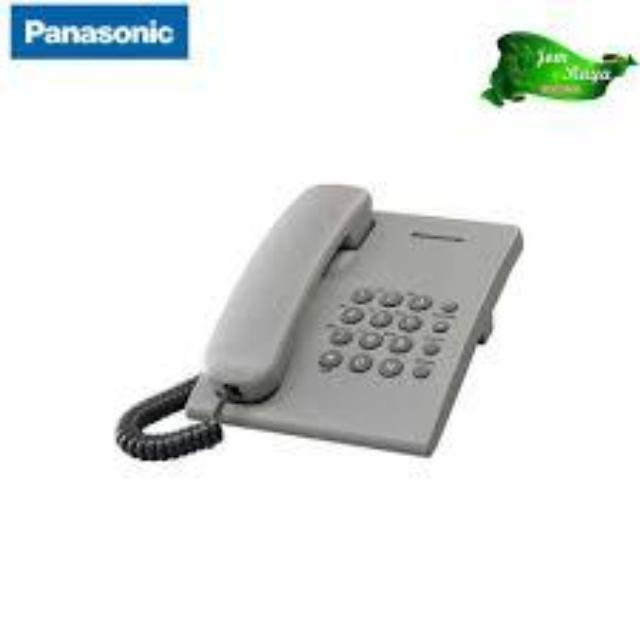Telephone-Set: (106, 160, 570, 478)
